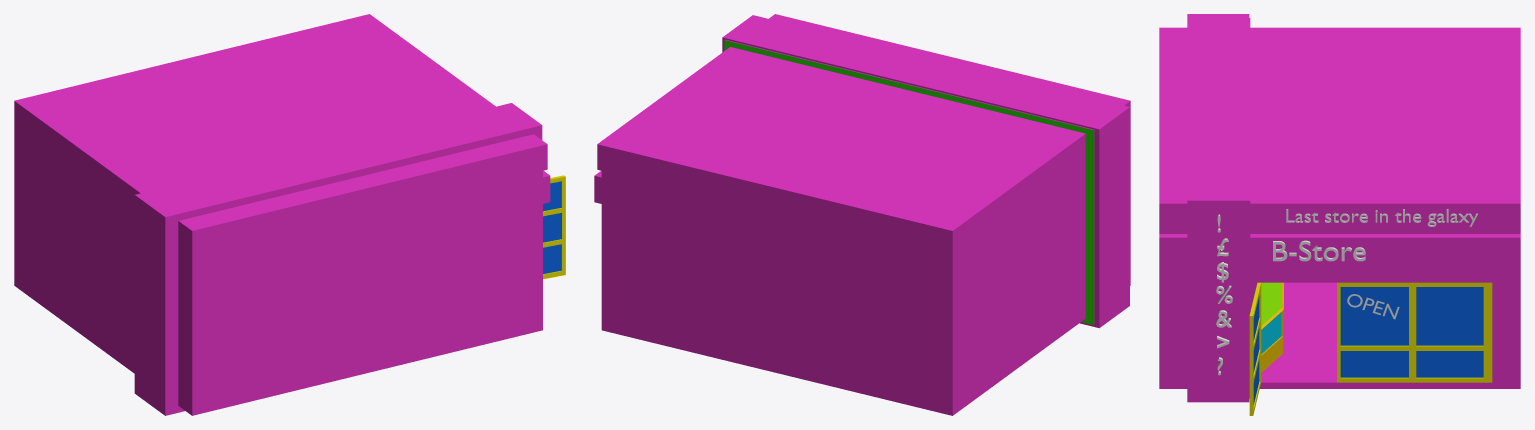
File: Shop.fbx
3 views of the same model, side by side, from view 1: azimuth 30°, elevation 25°; view 2: azimuth 150°, elevation 25°; view 3: azimuth 270°, elevation 25° (orthographic).
Visible parts, largest first — view 1: Shop; view 2: Shop; view 3: Shop, Table, Text_lastStore, Text_symbols, Text_B-Store, Text_Open.
Part boxes in pixels (x1=…): Shop: x1=14, y1=14, x2=565, y2=415; Shop: x1=594, y1=14, x2=1130, y2=415; Shop: x1=1159, y1=14, x2=1520, y2=415; Table: x1=1261, y1=282, x2=1283, y2=372; Text_lastStore: x1=1286, y1=209, x2=1477, y2=226; Text_symbols: x1=1216, y1=214, x2=1232, y2=375; Text_B-Store: x1=1273, y1=240, x2=1365, y2=261; Text_Open: x1=1347, y1=294, x2=1399, y2=319.
Size of the model in its own units: 1630 by 718 by 1164.
